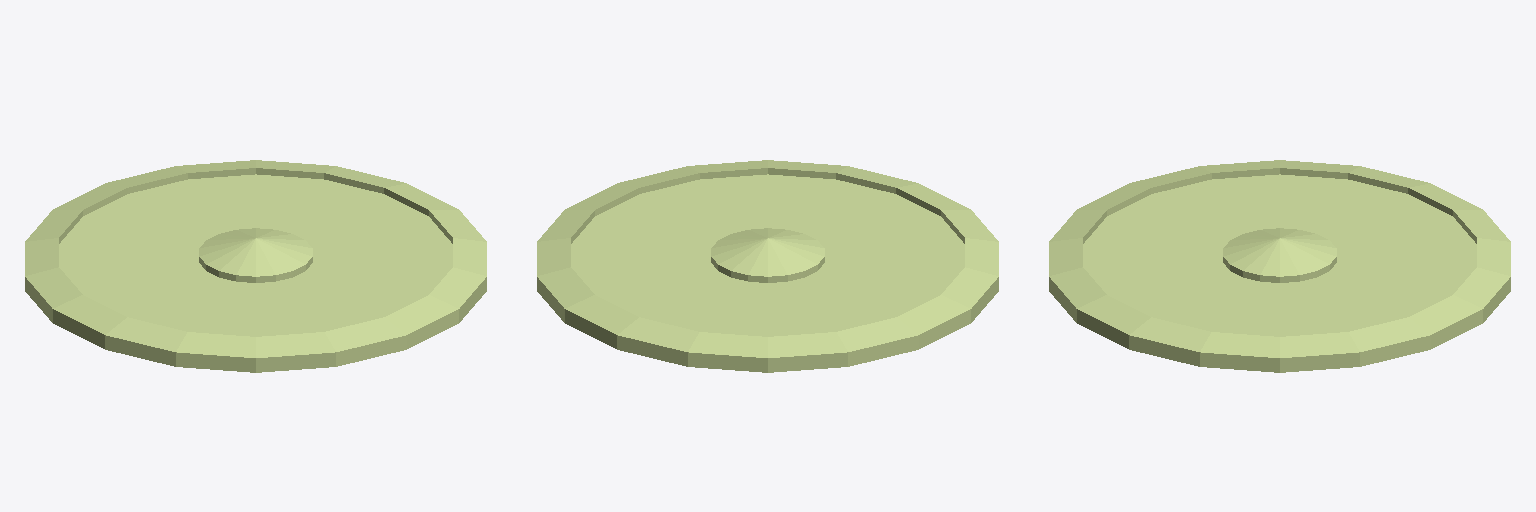
Rendered from shield.obj.
3 renders of one model, left to right at view 1: azimuth 30°, elevation 25°; view 2: azimuth 150°, elevation 25°; view 3: azimuth 270°, elevation 25°, orthographic.
Parts seen in each view (by area): view 1: Cylinder001; view 2: Cylinder001; view 3: Cylinder001.
Part boxes in pixels (x1,y1,x2,y2): Cylinder001: (25, 160, 486, 372); Cylinder001: (537, 160, 998, 372); Cylinder001: (1049, 160, 1510, 372).
Bounding box in the file's own units: 2 × 0.167 × 1.97.